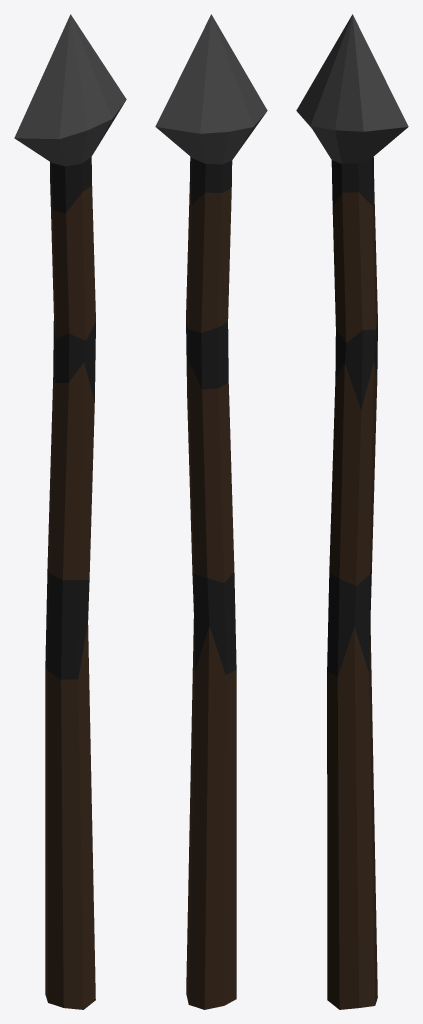
The model's file is Spear.fbx.
3 views of the same model, side by side, from view 1: azimuth 30°, elevation 25°; view 2: azimuth 210°, elevation 25°; view 3: azimuth 330°, elevation 25° (orthographic).
Parts seen in each view (by area): view 1: Spear; view 2: Spear; view 3: Spear.
Part boxes in pixels (x1,y1,x2,y2): Spear: (14,14,126,1009); Spear: (155,14,267,1009); Spear: (296,14,408,1009).
Bounding box in the file's own units: 28.66 × 240 × 15.4.
